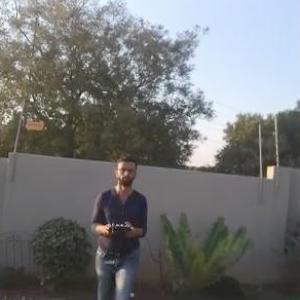follow: (85, 141, 152, 299)
